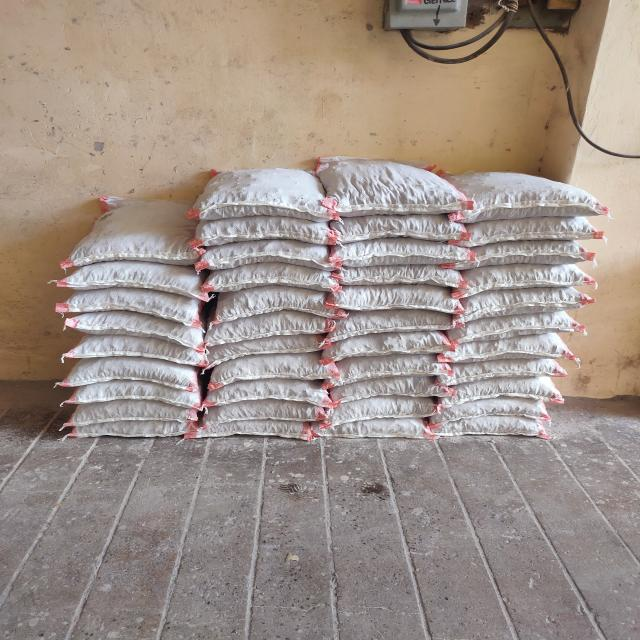Gravel: (72, 206, 199, 263), (199, 168, 325, 213), (329, 169, 455, 214), (467, 178, 593, 223), (68, 262, 212, 292), (68, 287, 212, 317), (63, 310, 207, 340), (60, 332, 204, 362), (58, 357, 202, 387), (54, 376, 198, 406), (197, 216, 338, 244), (208, 310, 334, 339), (204, 239, 330, 267), (206, 264, 332, 292), (211, 286, 337, 314), (69, 399, 197, 424), (66, 417, 194, 442), (211, 376, 334, 402), (205, 335, 320, 361), (217, 354, 332, 380), (470, 220, 599, 243), (463, 244, 592, 267), (463, 267, 592, 290), (463, 291, 592, 314), (459, 317, 588, 340), (445, 339, 574, 362), (440, 359, 569, 382), (441, 378, 568, 401), (431, 397, 558, 420), (324, 396, 440, 420), (319, 416, 435, 440), (205, 397, 326, 420), (203, 420, 324, 443), (340, 241, 465, 263), (339, 217, 464, 239), (435, 416, 551, 438), (328, 379, 446, 399), (331, 357, 449, 377), (334, 334, 452, 354), (335, 312, 453, 332), (337, 288, 455, 308), (342, 266, 460, 286)
